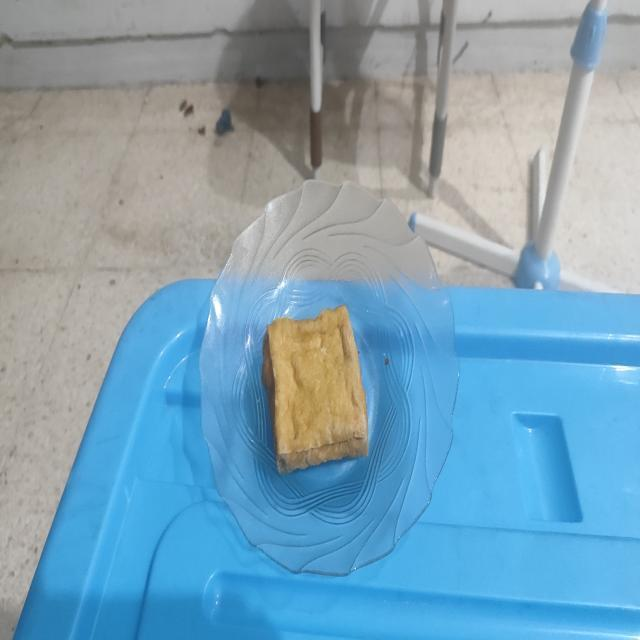tahu_goreng: (262, 306, 368, 472)
